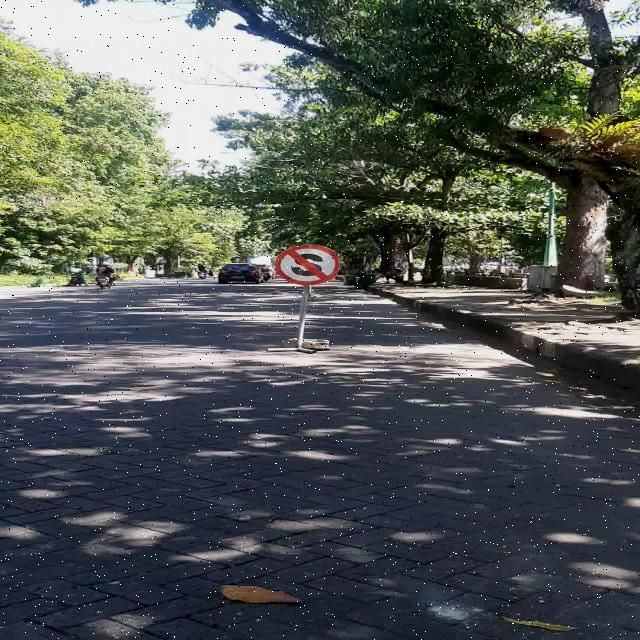Dilarang Berhenti: (275, 244, 339, 284)
